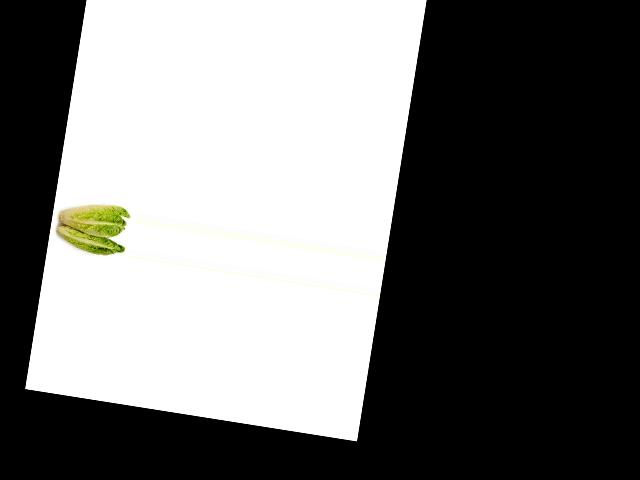lettuce: (48, 222, 128, 265)
